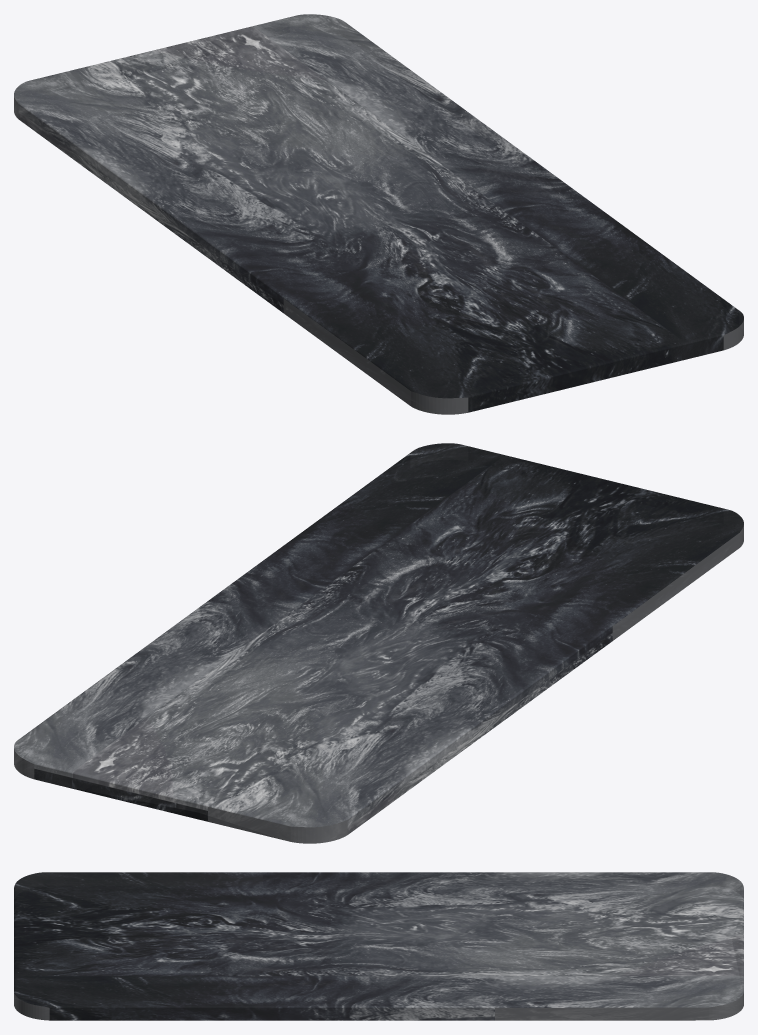
Rendered from tabletop-epoxy-rounded-corners-source.glb.
The picture shows the model from 3 angles, top to bottom: view 1: azimuth 30°, elevation 25°; view 2: azimuth 150°, elevation 25°; view 3: azimuth 270°, elevation 25°; orthographic projection. The views are drawn at different scales.
Parts seen in each view (by area): view 1: tabletop_epoxy_rounded_corners_source; view 2: tabletop_epoxy_rounded_corners_source; view 3: tabletop_epoxy_rounded_corners_source.
Boxes of the visible parts, x1=… form: tabletop_epoxy_rounded_corners_source: x1=14, y1=14, x2=743, y2=414; tabletop_epoxy_rounded_corners_source: x1=14, y1=443, x2=743, y2=843; tabletop_epoxy_rounded_corners_source: x1=14, y1=872, x2=743, y2=1020.
Size of the model in its own units: 1.07 by 0.0508 by 2.44.
1 material, 1 textured.
